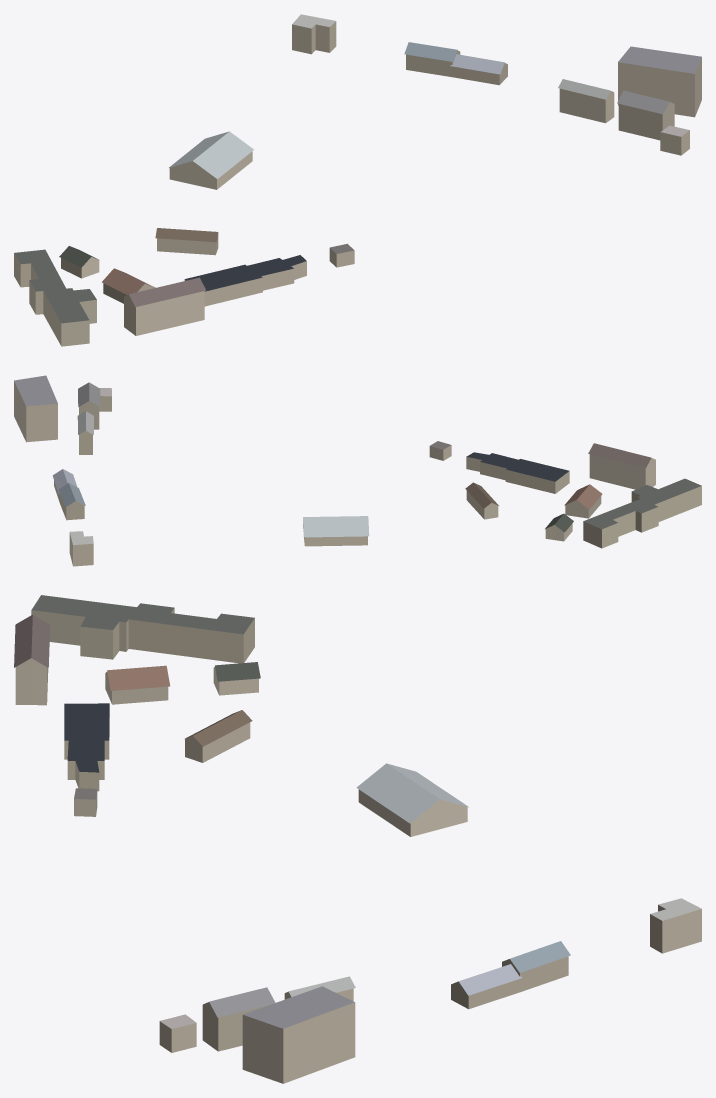
3 renders of one model, top to bottom at view 1: azimuth 30°, elevation 25°; view 2: azimuth 150°, elevation 25°; view 3: azimuth 270°, elevation 25°, orthographic. The views are drawn at different scales.
Visible parts, largest first — view 1: tuile; view 2: tuile; view 3: tuile.
Part boxes in pixels (x1,y1,x2,y2): tuile: [14, 14, 701, 346]; tuile: [14, 375, 701, 566]; tuile: [14, 595, 701, 1083].
Bounding box in the file's own units: 221 × 13.3 × 141.
